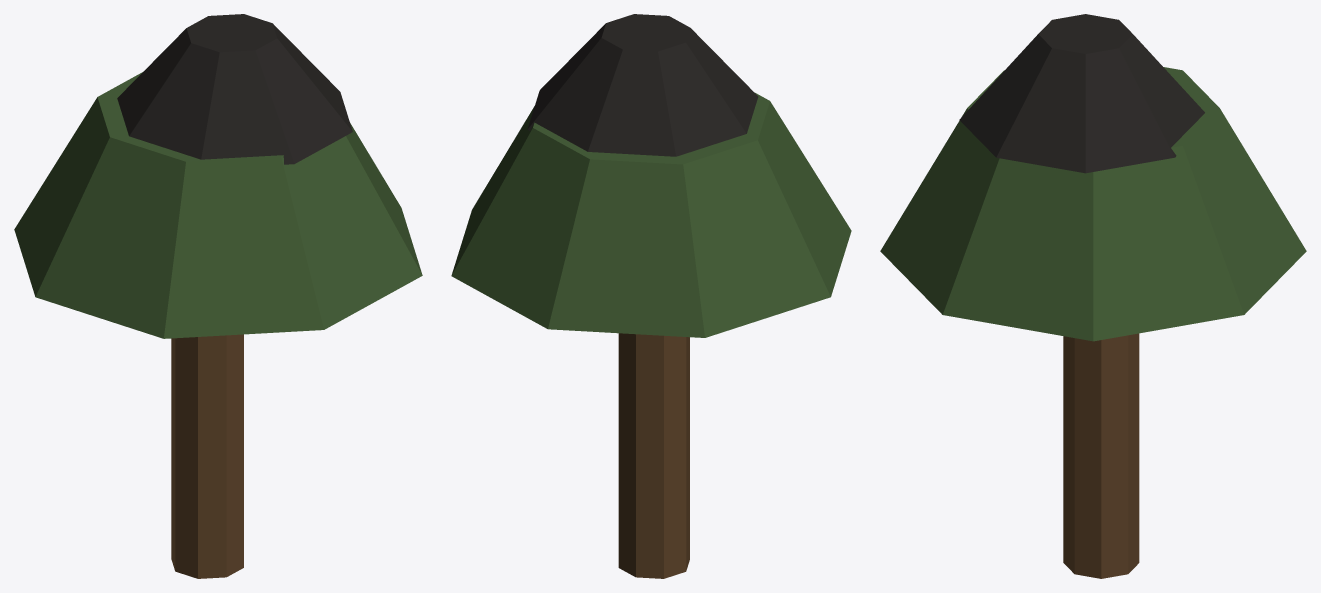
Rendered from RF_Prop_Tree_Damaged.glb.
3 renders of one model, left to right at view 1: azimuth 30°, elevation 25°; view 2: azimuth 150°, elevation 25°; view 3: azimuth 270°, elevation 25°, orthographic. The views are drawn at different scales.
Visible parts, largest first — view 1: RF_Prop_Tree_Damaged; view 2: RF_Prop_Tree_Damaged; view 3: RF_Prop_Tree_Damaged.
Boxes of the visible parts, box(x1,y1,x2,y2) form: RF_Prop_Tree_Damaged: box(14, 14, 422, 578); RF_Prop_Tree_Damaged: box(451, 14, 851, 578); RF_Prop_Tree_Damaged: box(880, 14, 1306, 578).
Bounding box in the file's own units: 2.7 × 3.75 × 2.7.
